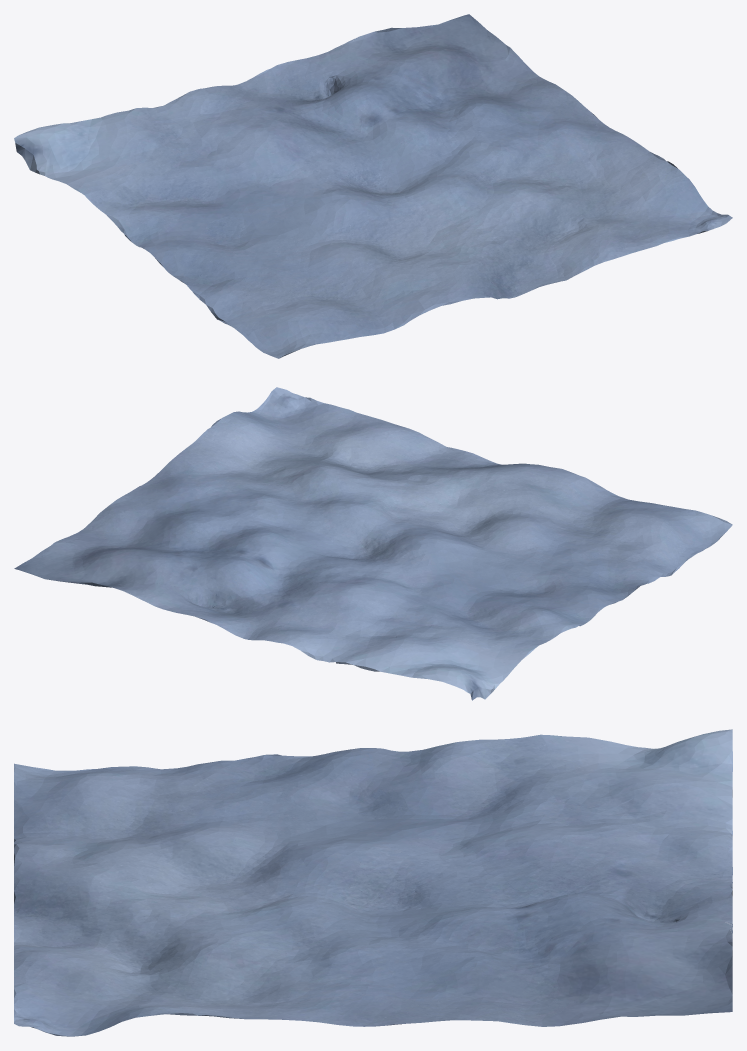
Rendered from Snow.fbx.
3 views of the same model, one above another, from view 1: azimuth 30°, elevation 25°; view 2: azimuth 150°, elevation 25°; view 3: azimuth 270°, elevation 25° (orthographic). The views are drawn at different scales.
Visible parts, largest first — view 1: meshes[0]; view 2: meshes[0]; view 3: meshes[0].
Boxes of the visible parts, x1,y1,x2,y2 form: meshes[0]: (14, 14, 732, 358); meshes[0]: (14, 387, 732, 700); meshes[0]: (14, 729, 732, 1036).
Bounding box in the file's own units: 0.6338 × 0.0668 × 0.6394.
1 material, 1 textured.
